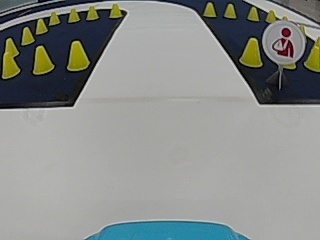cone: (239, 37, 263, 68), (1, 40, 20, 78), (66, 40, 89, 71), (32, 45, 54, 74), (304, 35, 319, 72), (21, 27, 35, 44), (108, 3, 122, 18), (86, 5, 99, 20), (224, 3, 237, 18), (203, 2, 216, 17), (247, 6, 259, 21), (36, 18, 48, 33), (68, 8, 80, 22), (49, 11, 60, 24), (266, 9, 276, 22)
patient: (265, 21, 302, 62)
